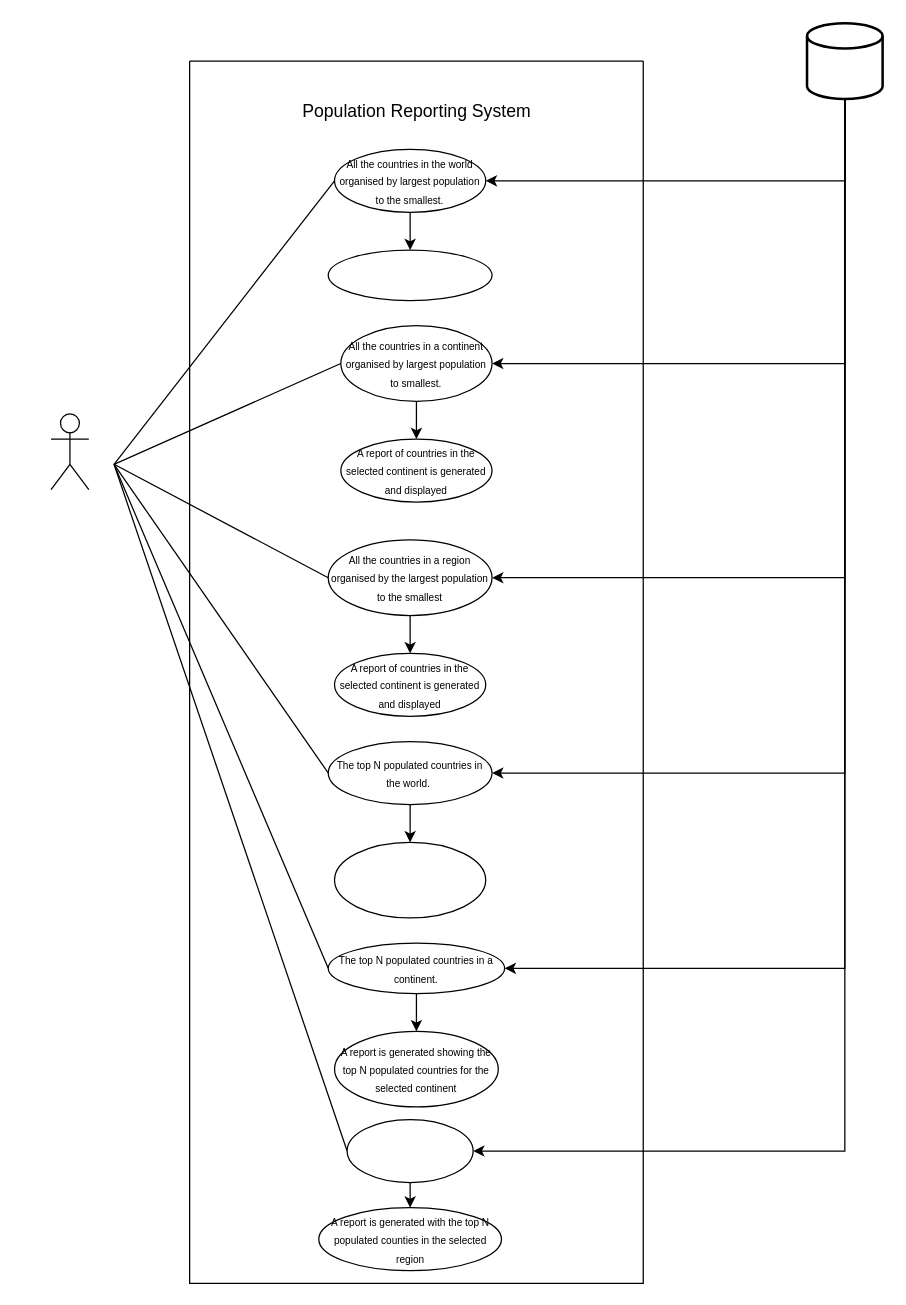
This 906x1305 diagram has some shape labels left out. Here are the shapes that lost their labels. From the top down, the box of each, then its label:
(805, 21, 883, 100): World.sql
(327, 249, 492, 301): A report is generated showing countries ordered by population.
(50, 413, 89, 490): Data Analysist
(333, 841, 486, 918): A report with the top N populated countries is generated
(346, 1118, 473, 1183): The top N populated countries in a region.
